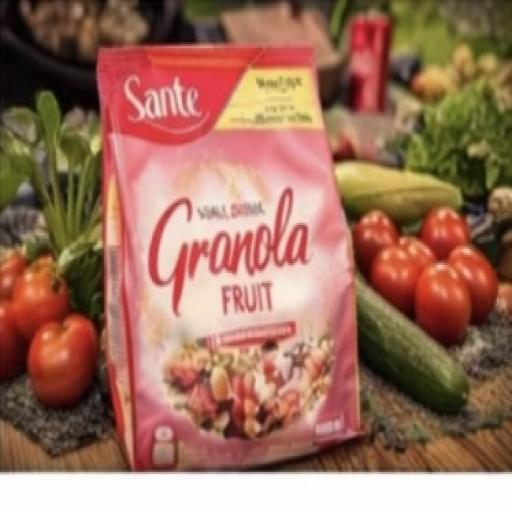granola: (90, 34, 370, 452)
